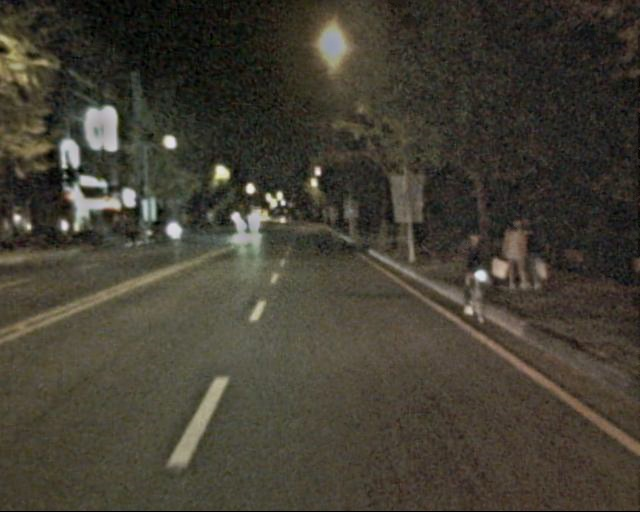person: (456, 232, 494, 320), (518, 215, 549, 288), (501, 218, 532, 290)
